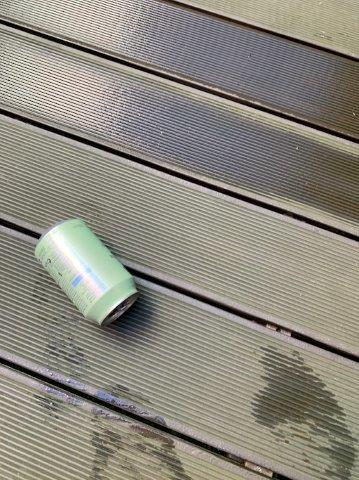kaleng: (37, 220, 138, 324)
